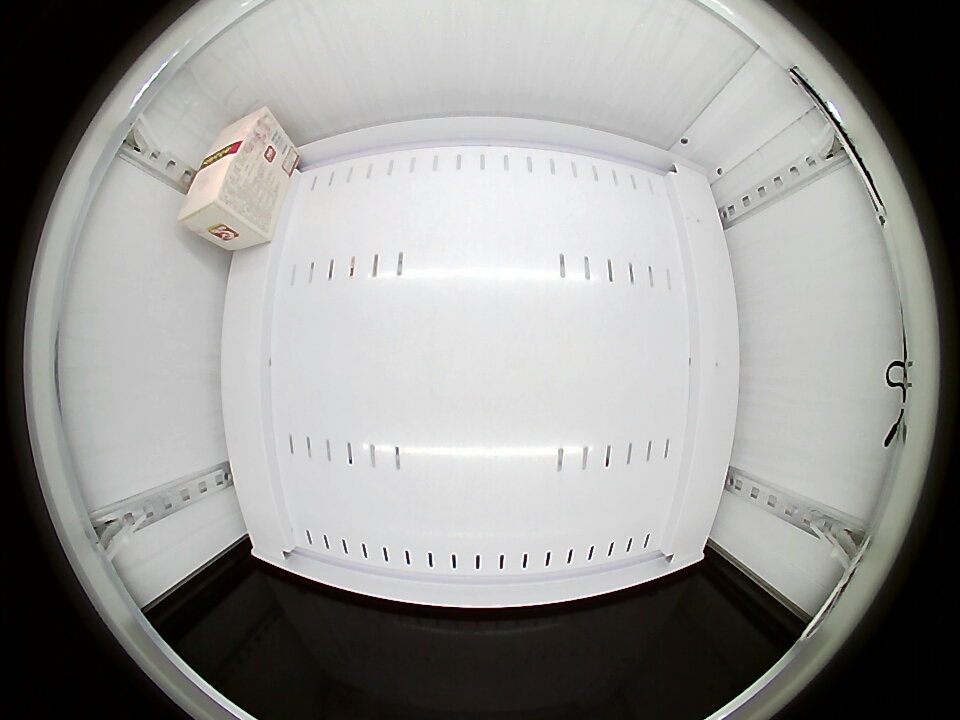rousongbing: (177, 105, 280, 237)
